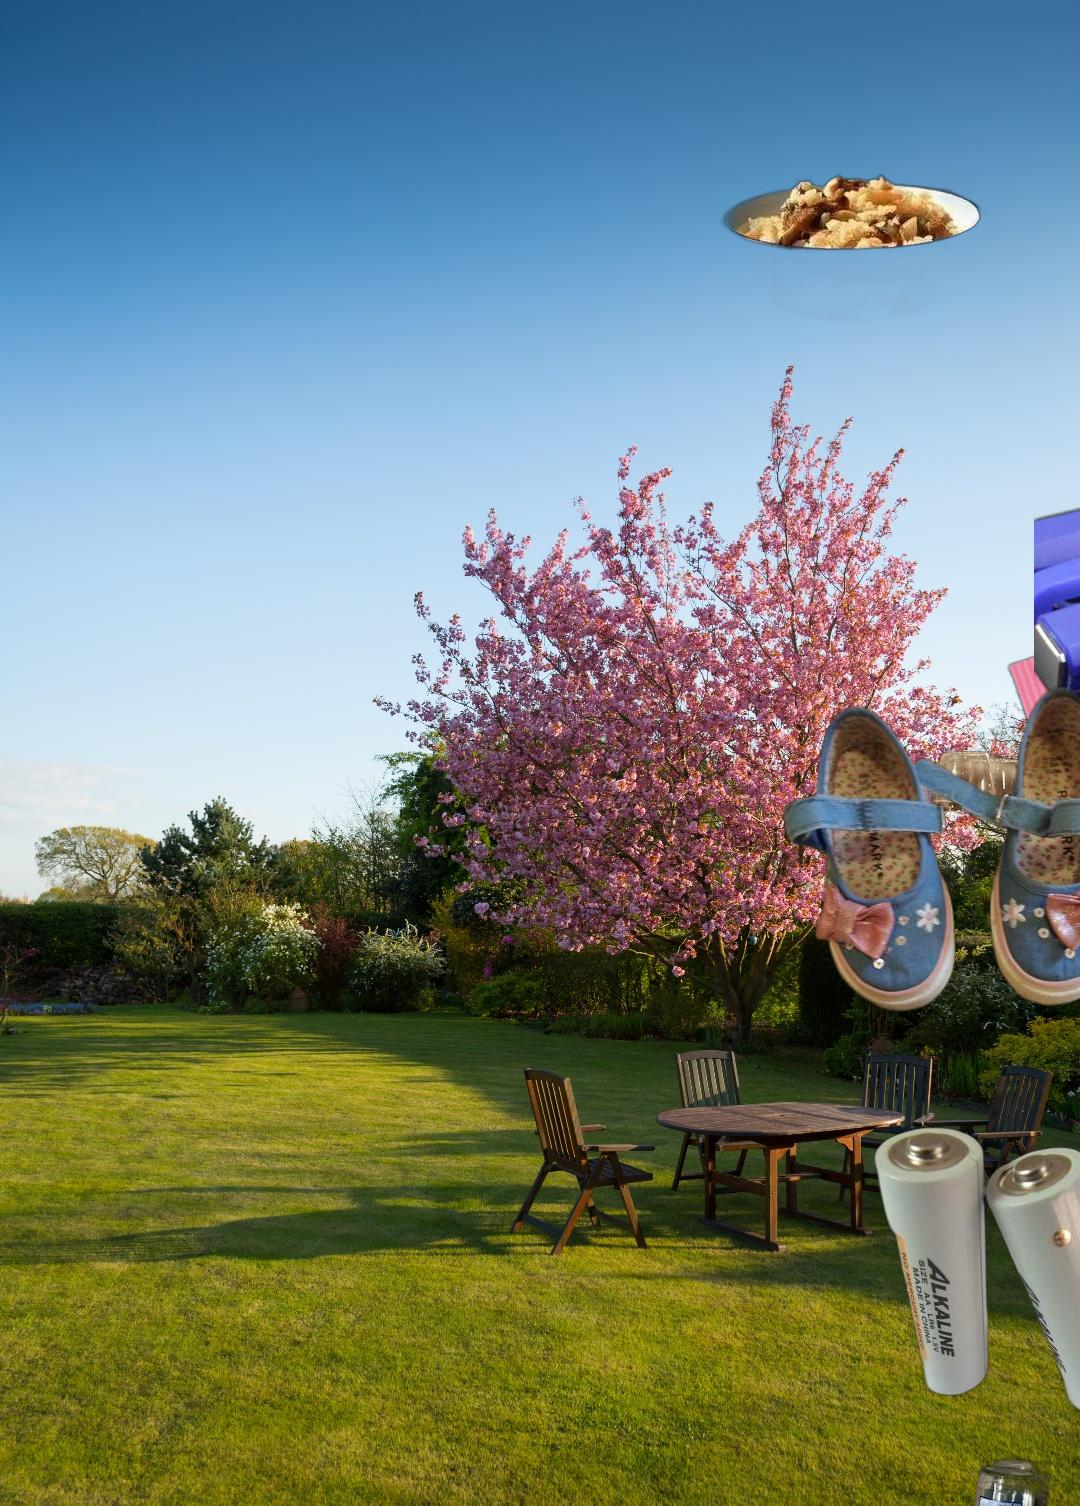battery: (868, 1124, 1080, 1420)
biological: (718, 171, 990, 324)
glass: (960, 1453, 1055, 1506)
paper-bag: (929, 749, 1078, 812)
penholder: (1034, 361, 1080, 1081)
shoes: (778, 682, 1080, 1016)
trashbox-cardboard: (1001, 583, 1080, 1101)
